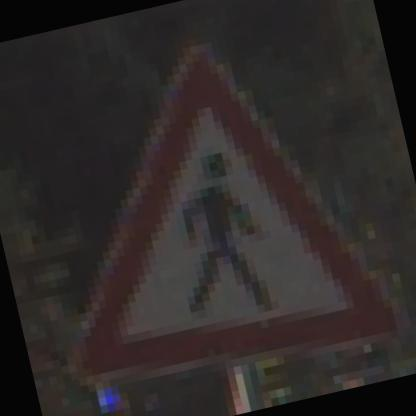crosswalk: (8, 17, 398, 403)
